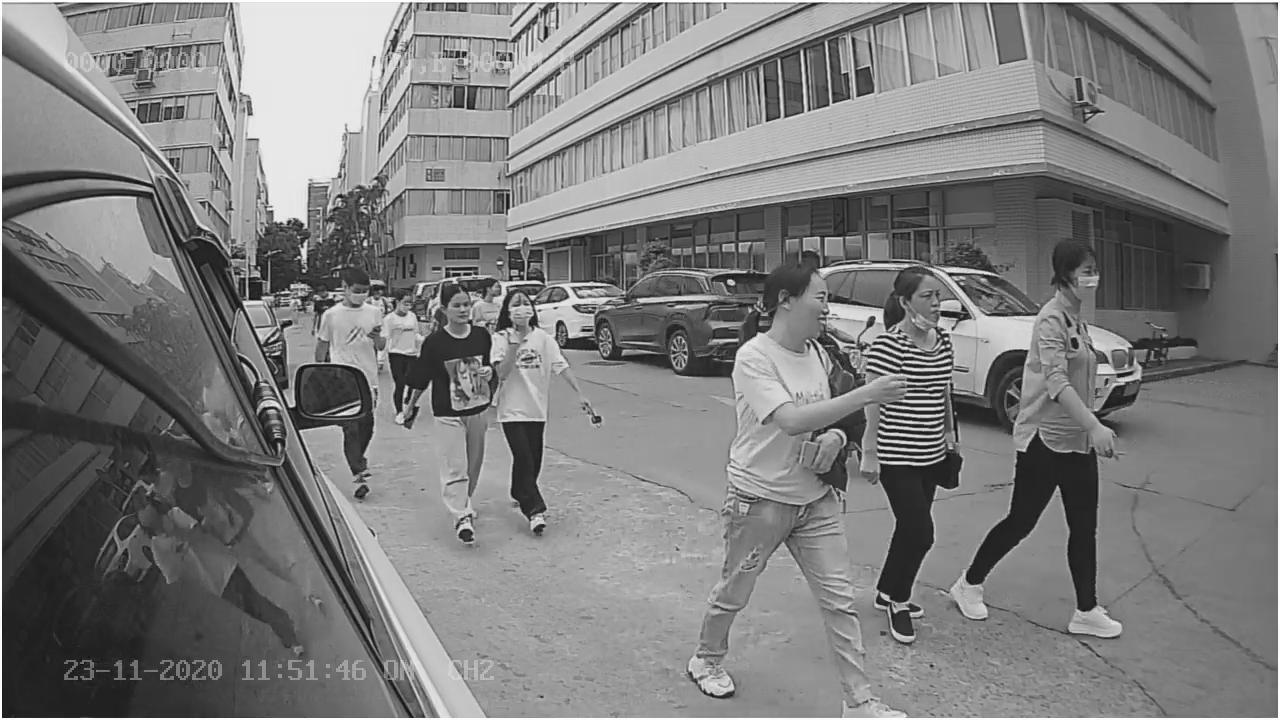person: (681, 262, 905, 719), (950, 225, 1126, 636), (398, 284, 497, 548)
